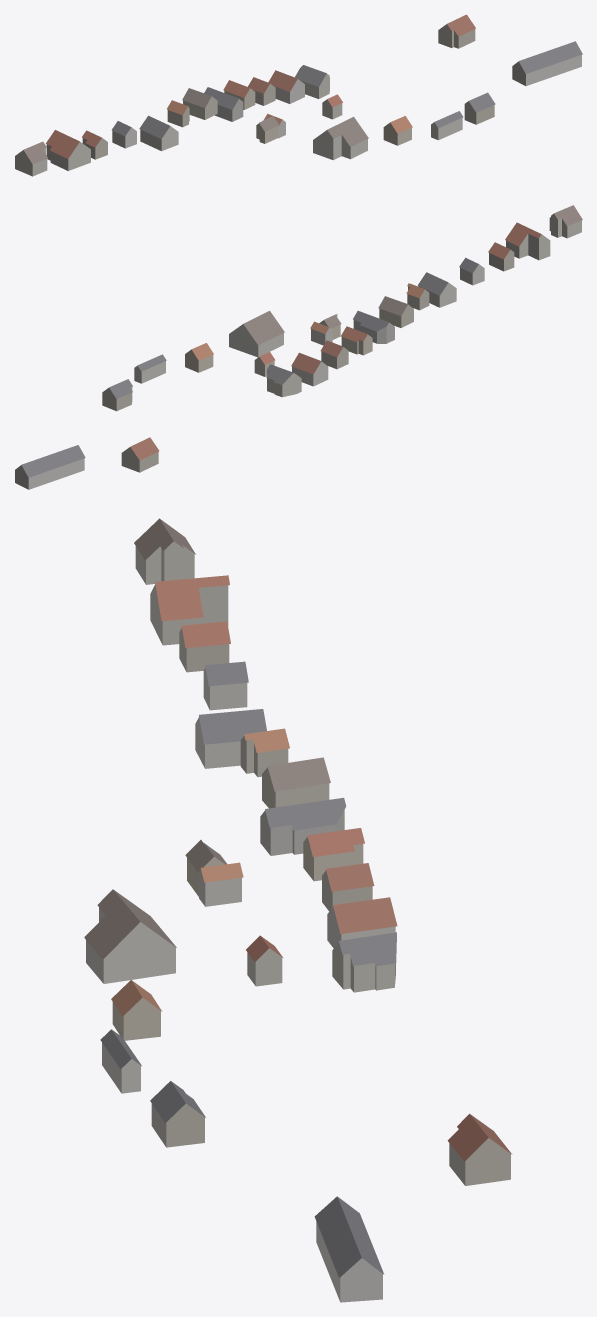
The picture shows the model from 3 angles, top to bottom: view 1: azimuth 30°, elevation 25°; view 2: azimuth 210°, elevation 25°; view 3: azimuth 270°, elevation 25°; orthographic projection. The views are drawn at different scales.
Visible parts, largest first — view 1: buildings; view 2: buildings; view 3: buildings.
Part boxes in pixels (bbox=[...]): buildings: bbox=[15, 14, 582, 176]; buildings: bbox=[15, 205, 582, 489]; buildings: bbox=[84, 518, 512, 1302].
Bounding box in the file's own units: 298 × 45.6 × 90.95.
